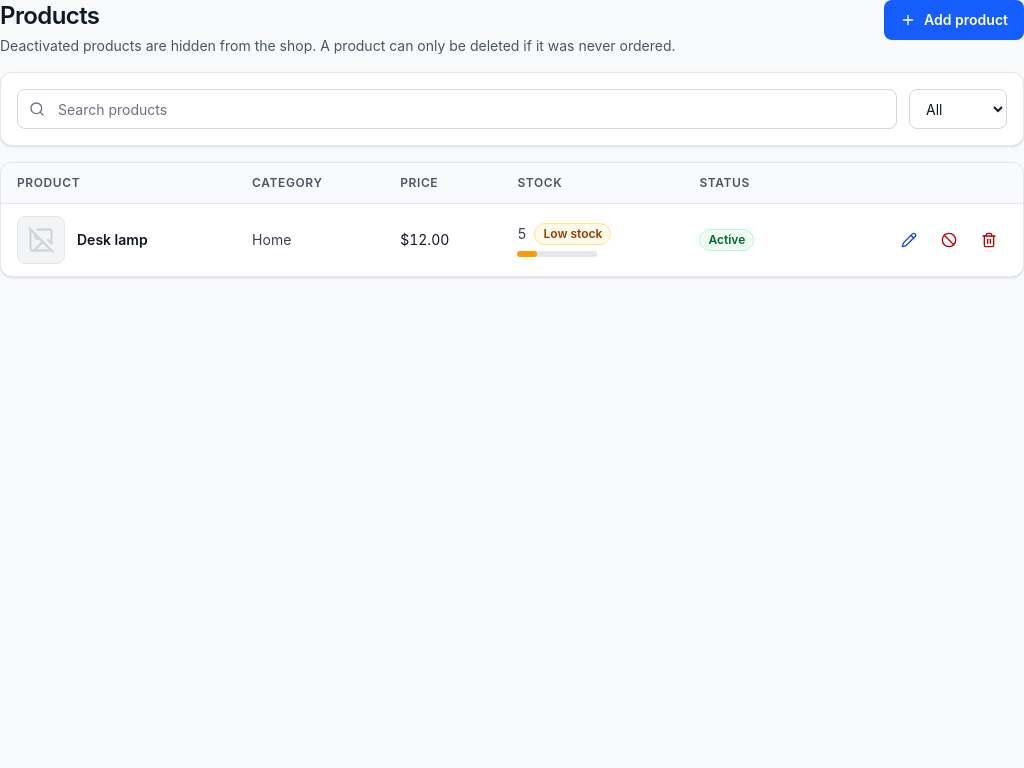
Test case: Delete a product › deletes by id, closes the dialog and shows a notice
Click the button named "Delete Desk lamp". click: (989, 240)
box: [971, 222, 1007, 258]
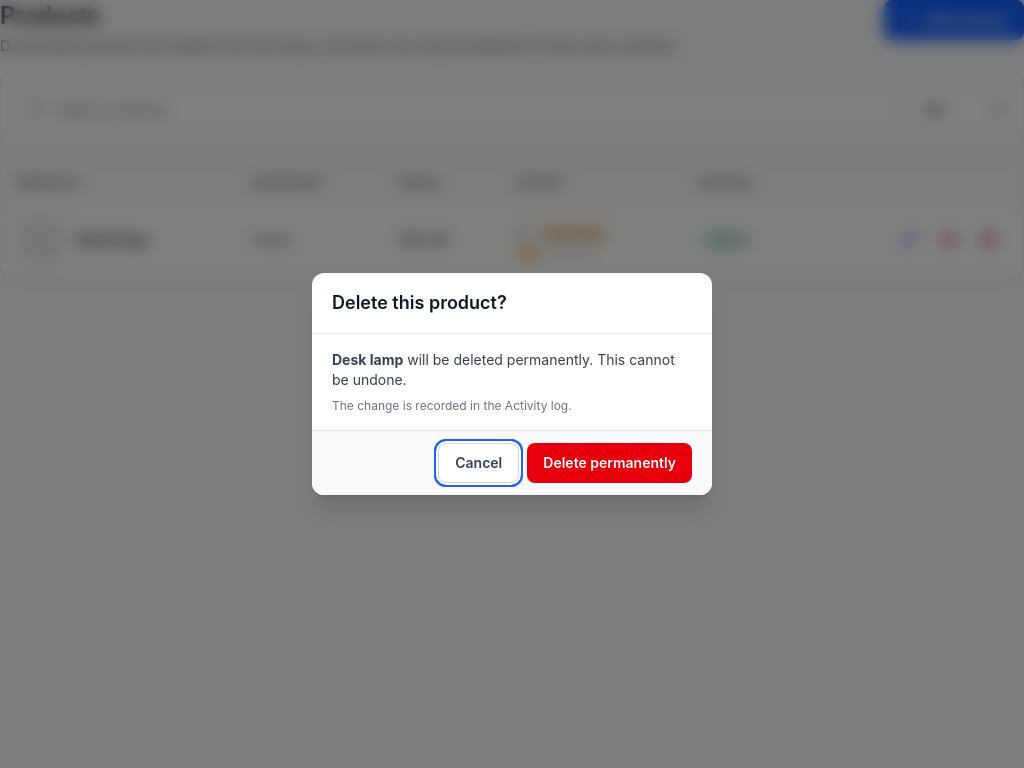
Click the button "Delete permanently". click: (610, 463)
box: [527, 443, 692, 483]
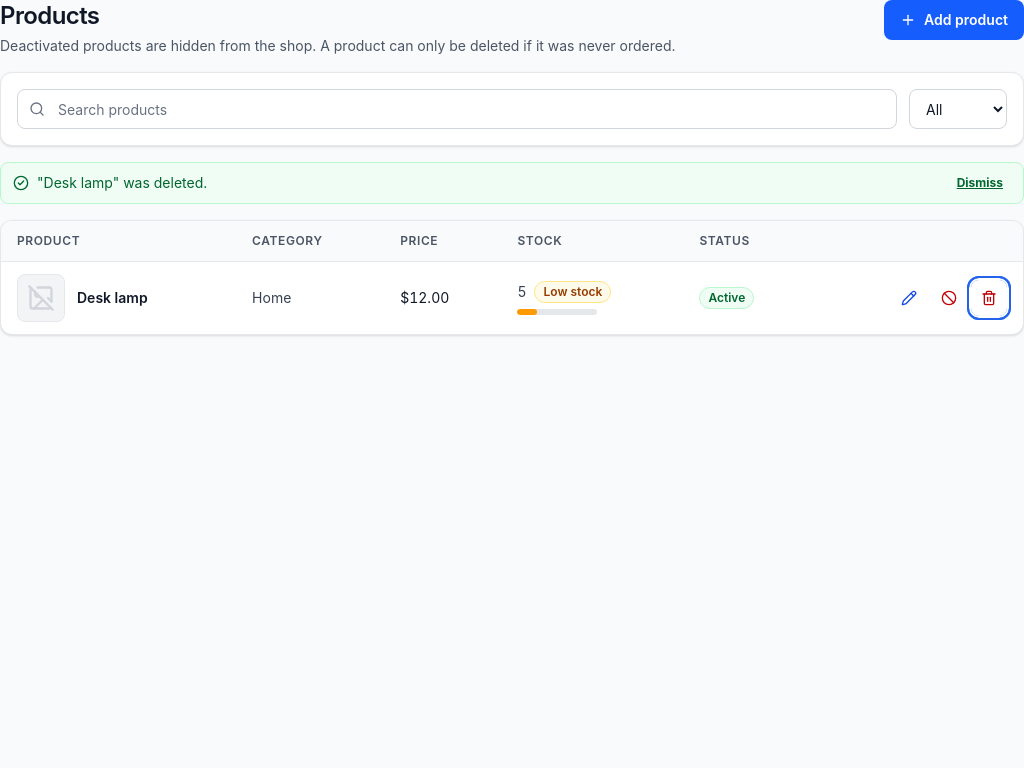
Check: the text "\"Desk lamp\" was deleted." is shown, box [37, 174, 207, 191]
Check: the dialog is gone
